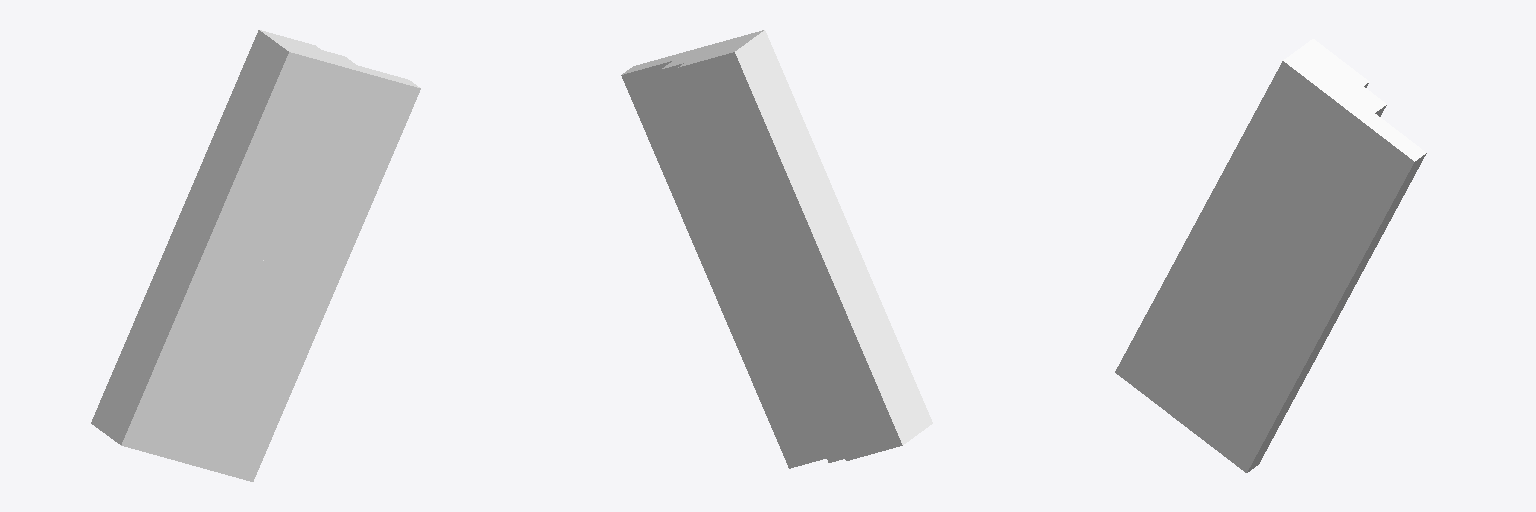
File: mt_roof_edge_double_r.obj
3 views of the same model, side by side, from view 1: azimuth 30°, elevation 25°; view 2: azimuth 150°, elevation 25°; view 3: azimuth 330°, elevation 25° (orthographic).
Parts seen in each view (by area): view 1: cube; view 2: cube; view 3: cube.
Part boxes in pixels (bbox=[...]): cube: bbox=[91, 30, 420, 481]; cube: bbox=[621, 30, 932, 468]; cube: bbox=[1115, 39, 1426, 472].
Size of the model in its own units: 1.78 by 2.39 by 0.3133.